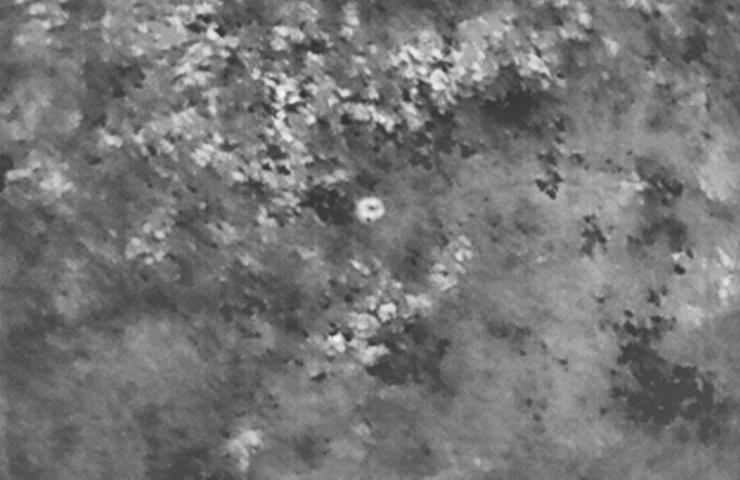landmines: (354, 194, 391, 224)
